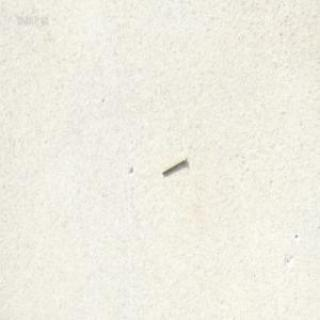Bolttrack_idkeyframe: (160, 153, 186, 175)
